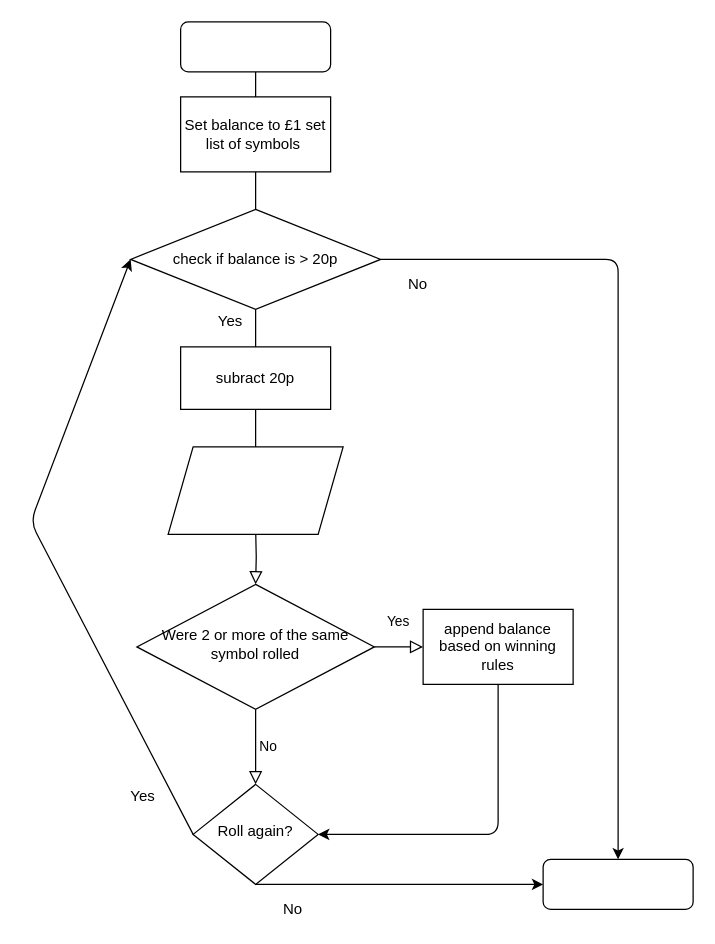
The diagram is 715 pixels wide and 944 high, and some of its shapes have lost their labels. Each missing label, with the box of its shape:
3 random sybols are rolled and printed to user: (167, 446, 343, 534)
Fruit Machine on: (179, 21, 331, 72)
quit: (542, 858, 693, 909)
